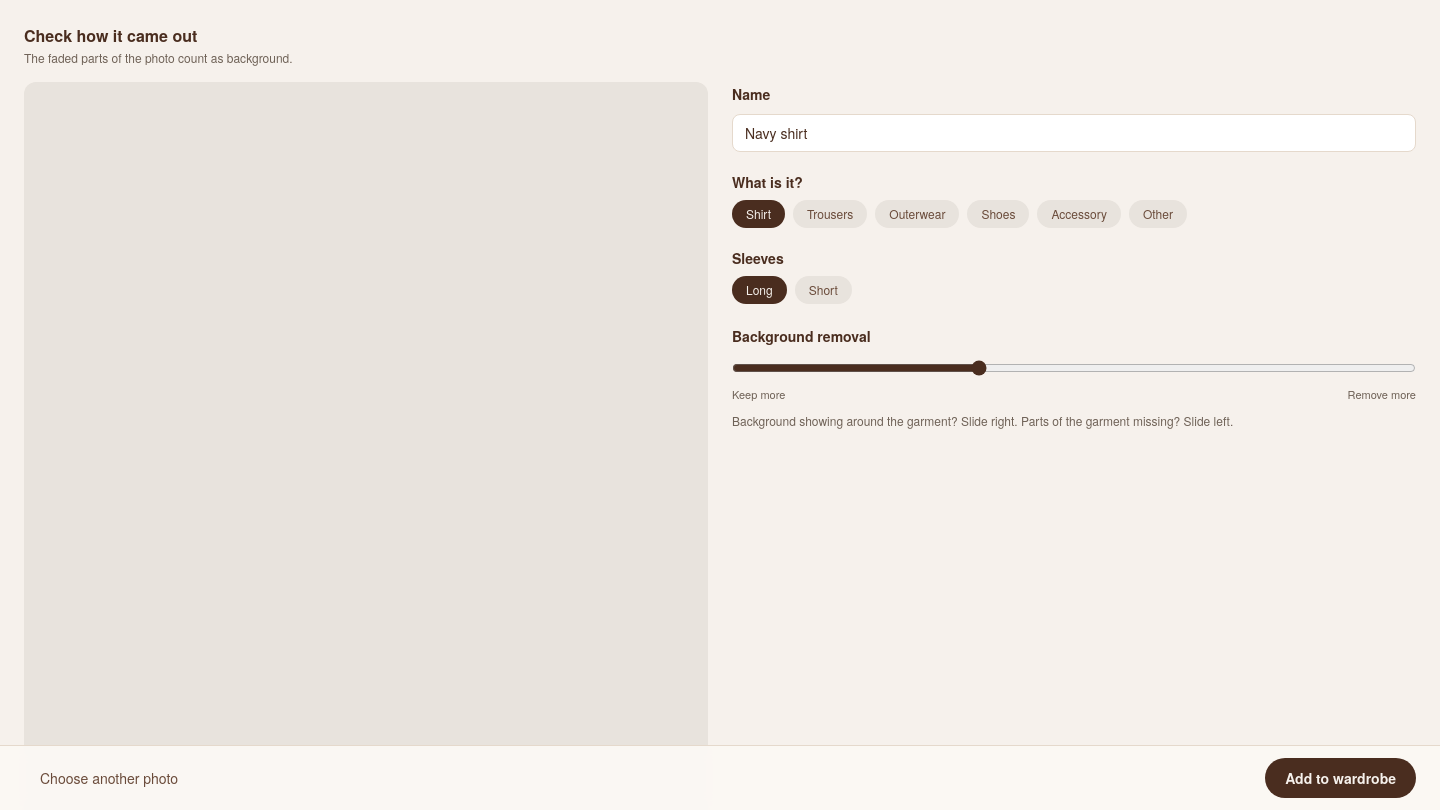
Test: GarmentReview › holds both buttons while the piece is being added
Expected: the field showing "Navy shirt" is shown, x1=732 y1=114 x2=1416 y2=152
Click the button "Add to wardrobe" at (1341, 778), box x1=1265 y1=758 x2=1416 y2=798
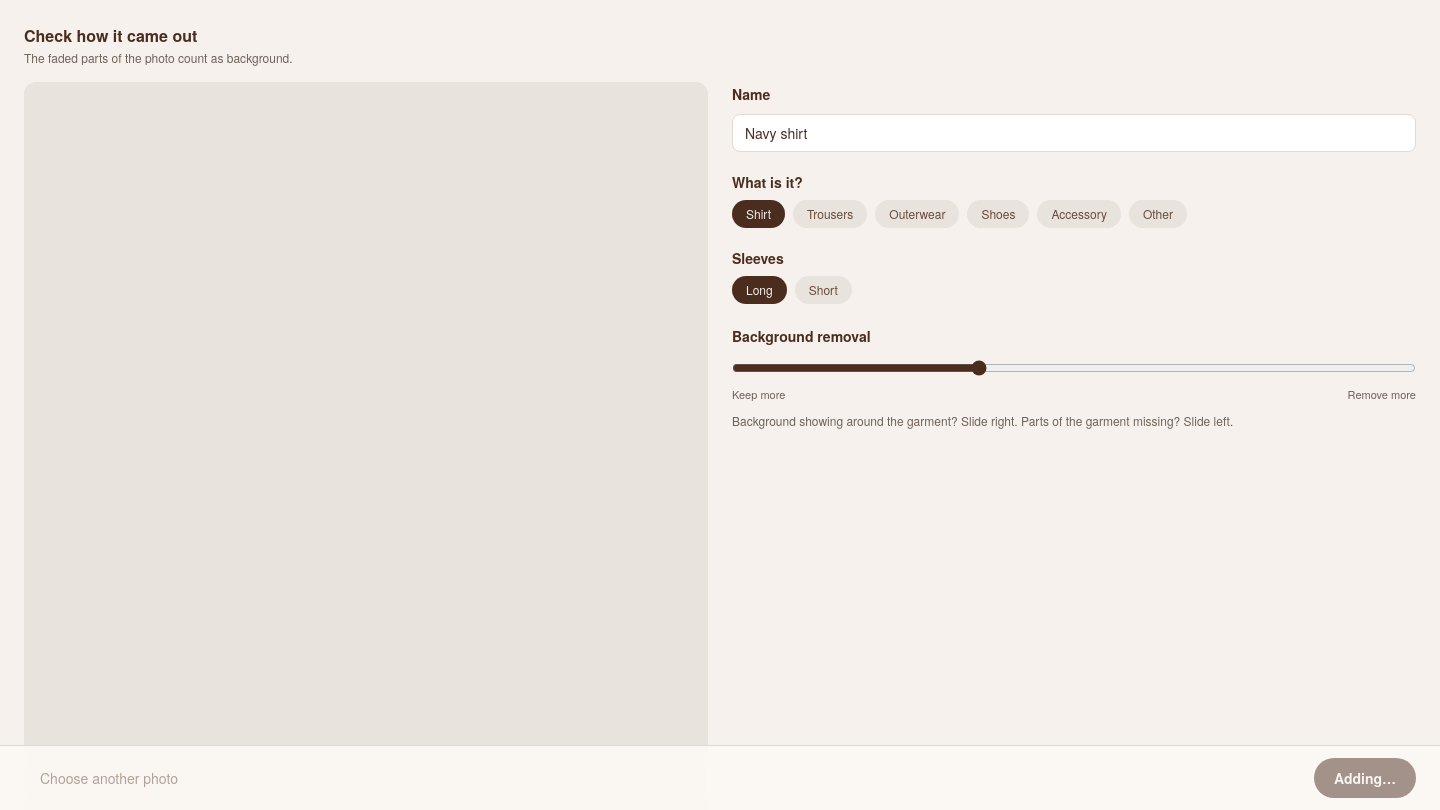
Now the button "Adding…" is disabled, box x1=1314 y1=758 x2=1416 y2=798
Now the button "Choose another photo" is disabled, box x1=24 y1=758 x2=194 y2=798
